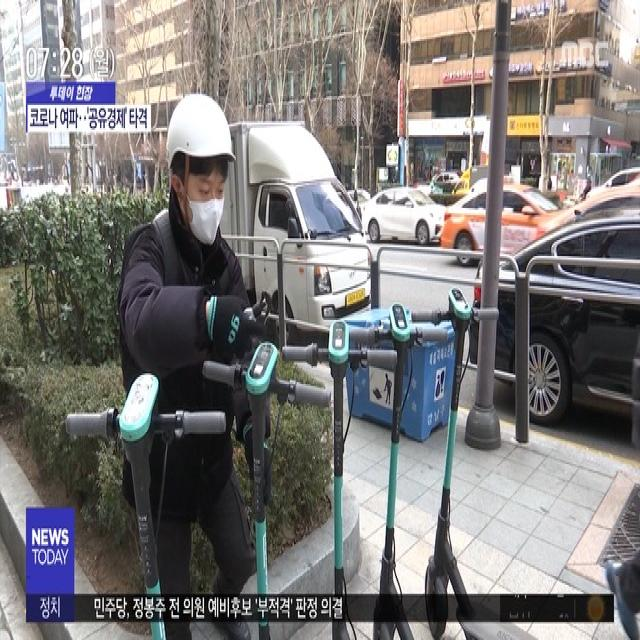helmet: (62, 95, 335, 640)
